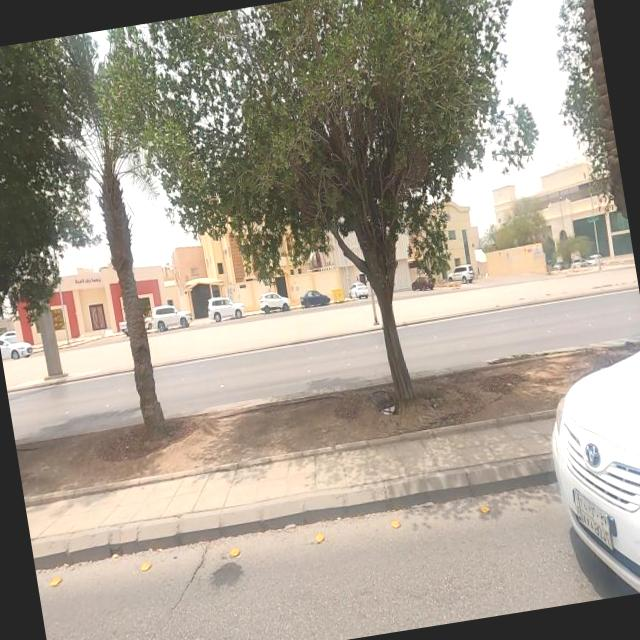debris: (343, 360, 432, 460)
